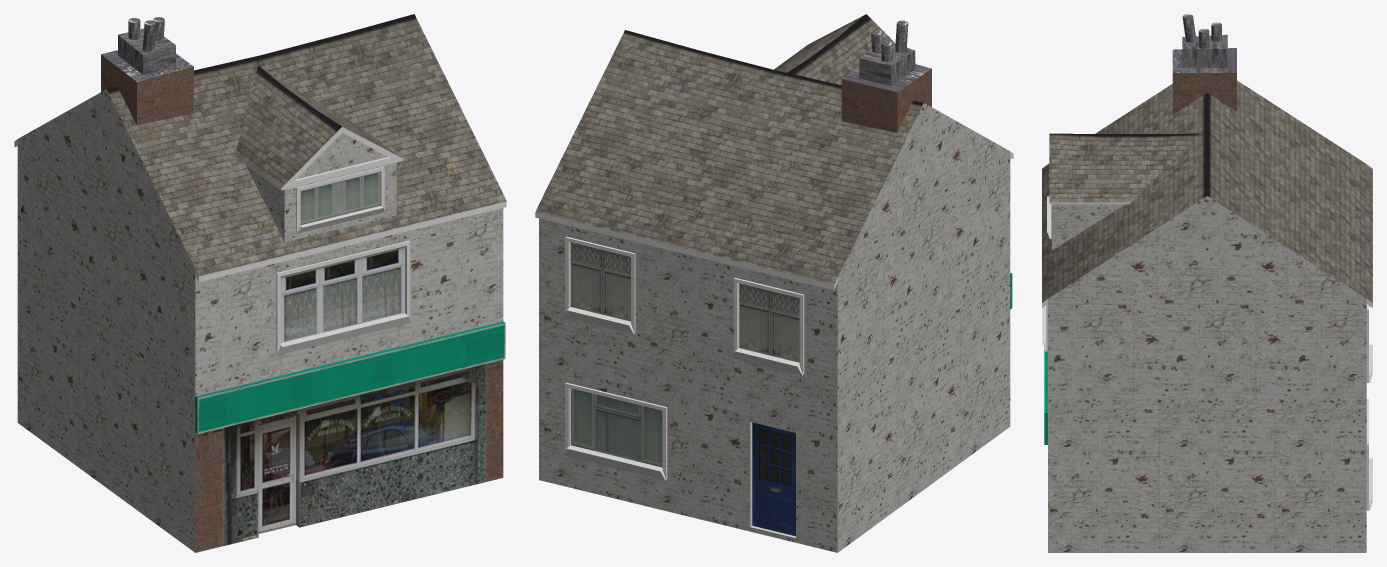
File: ukcommercialfood16.FBX
3 renders of one model, left to right at view 1: azimuth 30°, elevation 25°; view 2: azimuth 150°, elevation 25°; view 3: azimuth 270°, elevation 25°, orthographic. The views are drawn at different scales.
Visible parts, largest first — view 1: Box001; view 2: Box001; view 3: Box001.
Boxes of the visible parts, x1,y1,x2,y2 form: Box001: (14,14,506,552); Box001: (535,14,1013,552); Box001: (1042,14,1372,552).
Bounding box in the file's own units: 800 × 1154 × 831.
